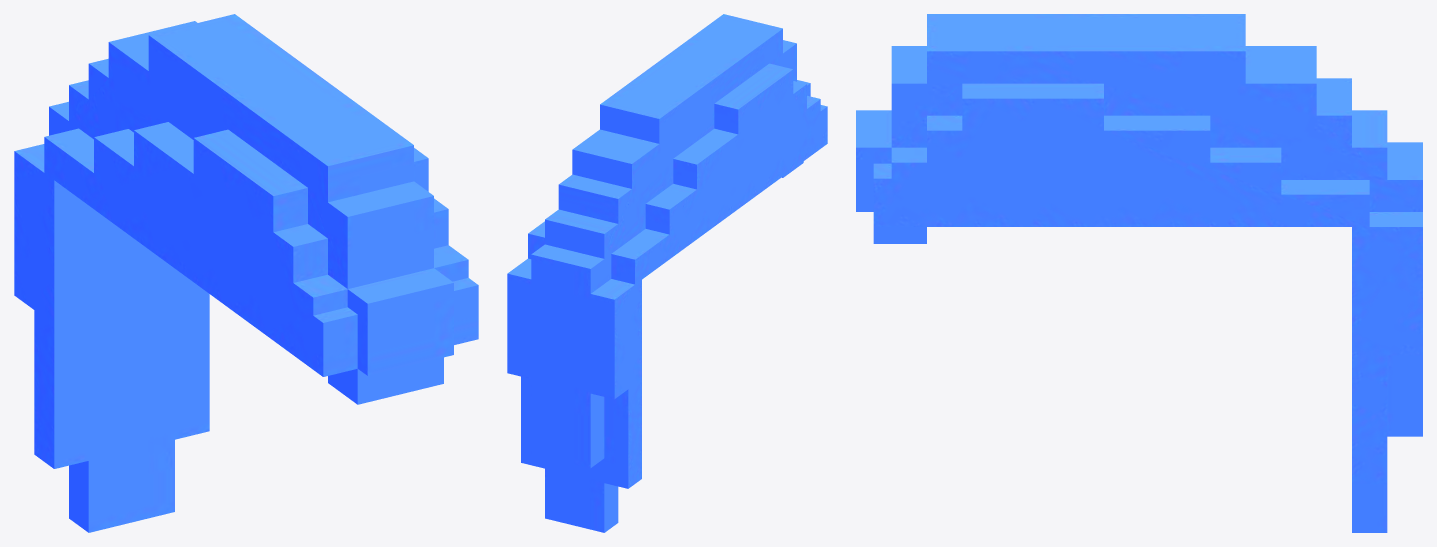
File: mohawk_blue.glb
The picture shows the model from 3 angles, left to right: view 1: azimuth 30°, elevation 25°; view 2: azimuth 150°, elevation 25°; view 3: azimuth 270°, elevation 25°; orthographic projection. The views are drawn at different scales.
Visible parts, largest first — view 1: mohawk.001; view 2: mohawk.001; view 3: mohawk.001.
Boxes of the visible parts, x1,y1,x2,y2 form: mohawk.001: (14,14,478,532); mohawk.001: (507,14,827,532); mohawk.001: (856,14,1422,532).
Size of the model in its own units: 0.9 by 3 by 3.2.
1 material, 1 textured.
